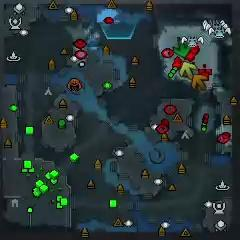x2: (181, 61, 197, 80)
x4: (172, 37, 192, 58)
x5: (191, 73, 208, 91)
